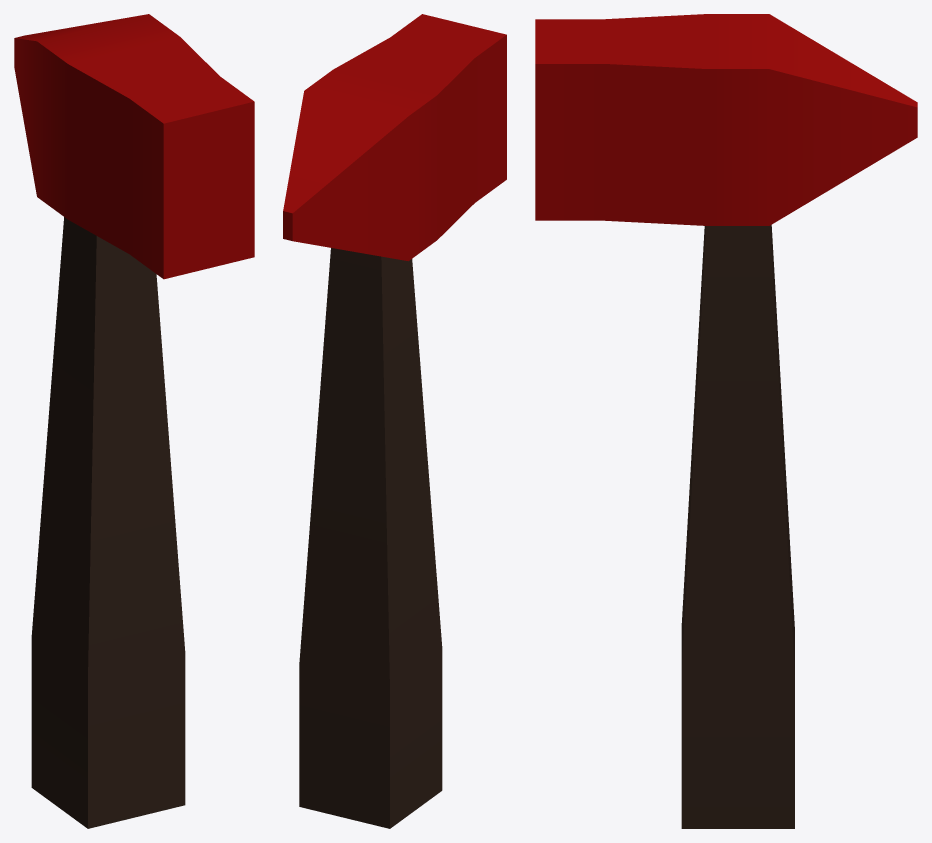
File: LowPolyFireAxe.fbx
3 renders of one model, left to right at view 1: azimuth 30°, elevation 25°; view 2: azimuth 150°, elevation 25°; view 3: azimuth 270°, elevation 25°, orthographic. The views are drawn at different scales.
Visible parts, largest first — view 1: Axe; view 2: Axe; view 3: Axe.
Boxes of the visible parts, box(x1,y1,x2,y2) form: Axe: box(14, 14, 254, 828); Axe: box(283, 14, 506, 828); Axe: box(535, 14, 917, 828).
Size of the model in its own units: 115 by 744 by 337.
